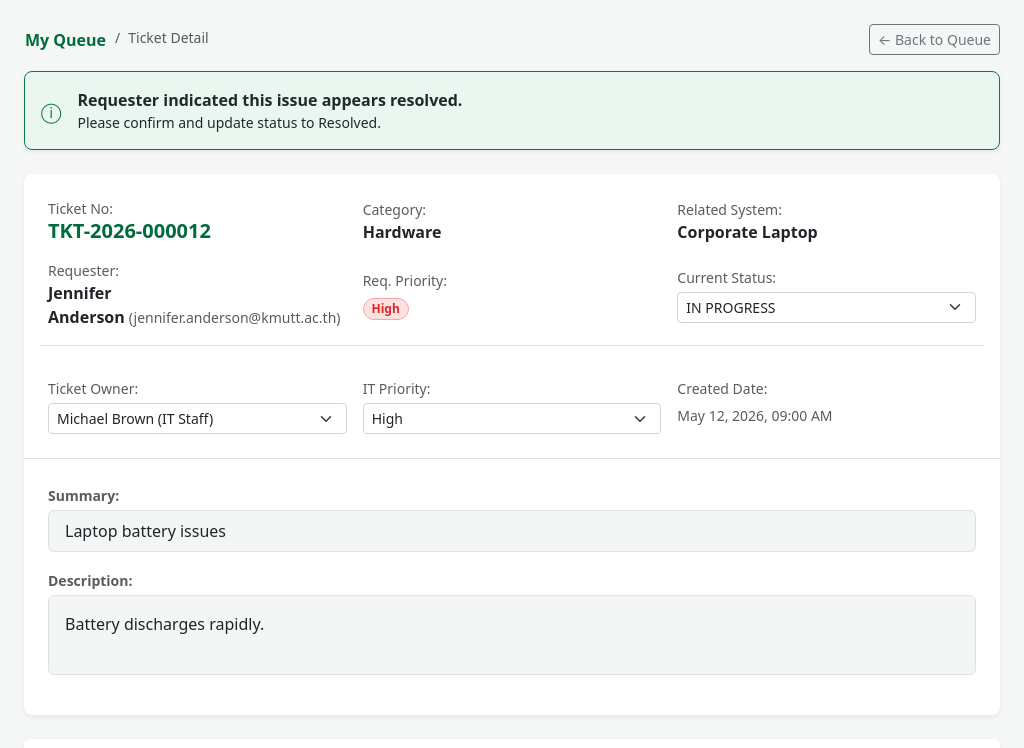
Scenario: Lab 4 Ticket Workflow UI Component Tests (UI-09, UI-10, UI-11) › UI-09: Resolution Modal blocks resolution when ticket has 0 Actions Taken: displays warning banner and disables Confirm Resolution button (AC-08, BR-09)
This screenshot has width=1024, height=748.
Expected: the text "TKT-2026-000012" is shown, [48, 217, 211, 244]
Note: Select RESOLVED in status dropdown
Step 1. Select "RESOLVED" in the dropdown labelled "Current Status" → (827, 307), box [677, 292, 976, 322]
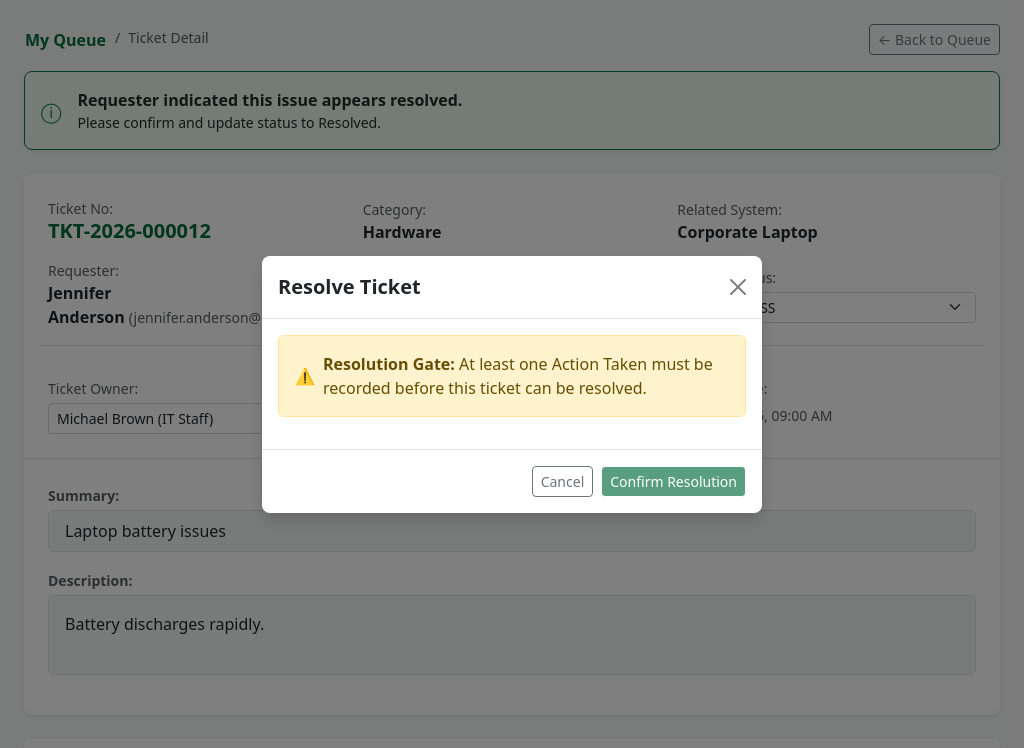
Result: the heading "Resolve Ticket" is shown at [278, 272, 421, 302]
Result: the text "At least one Action Taken must be recorded before" is shown at [323, 352, 713, 398]
Result: the button "Confirm Resolution" is disabled at [601, 466, 746, 496]
